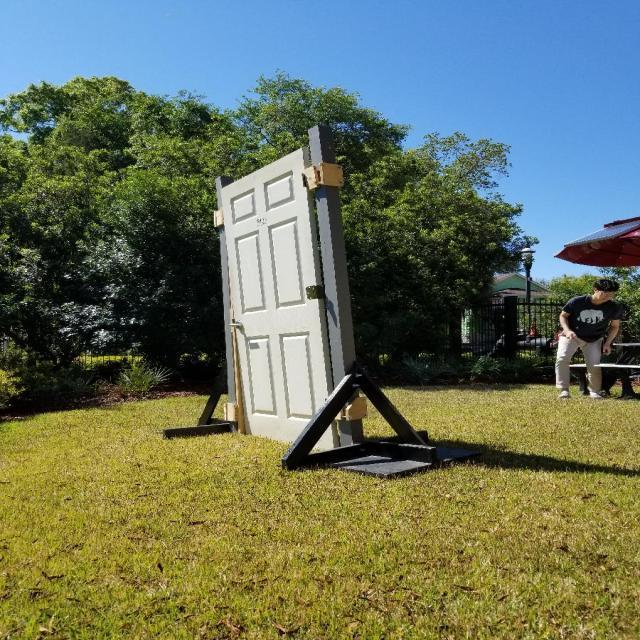door: (216, 146, 340, 459), (230, 320, 250, 330)
